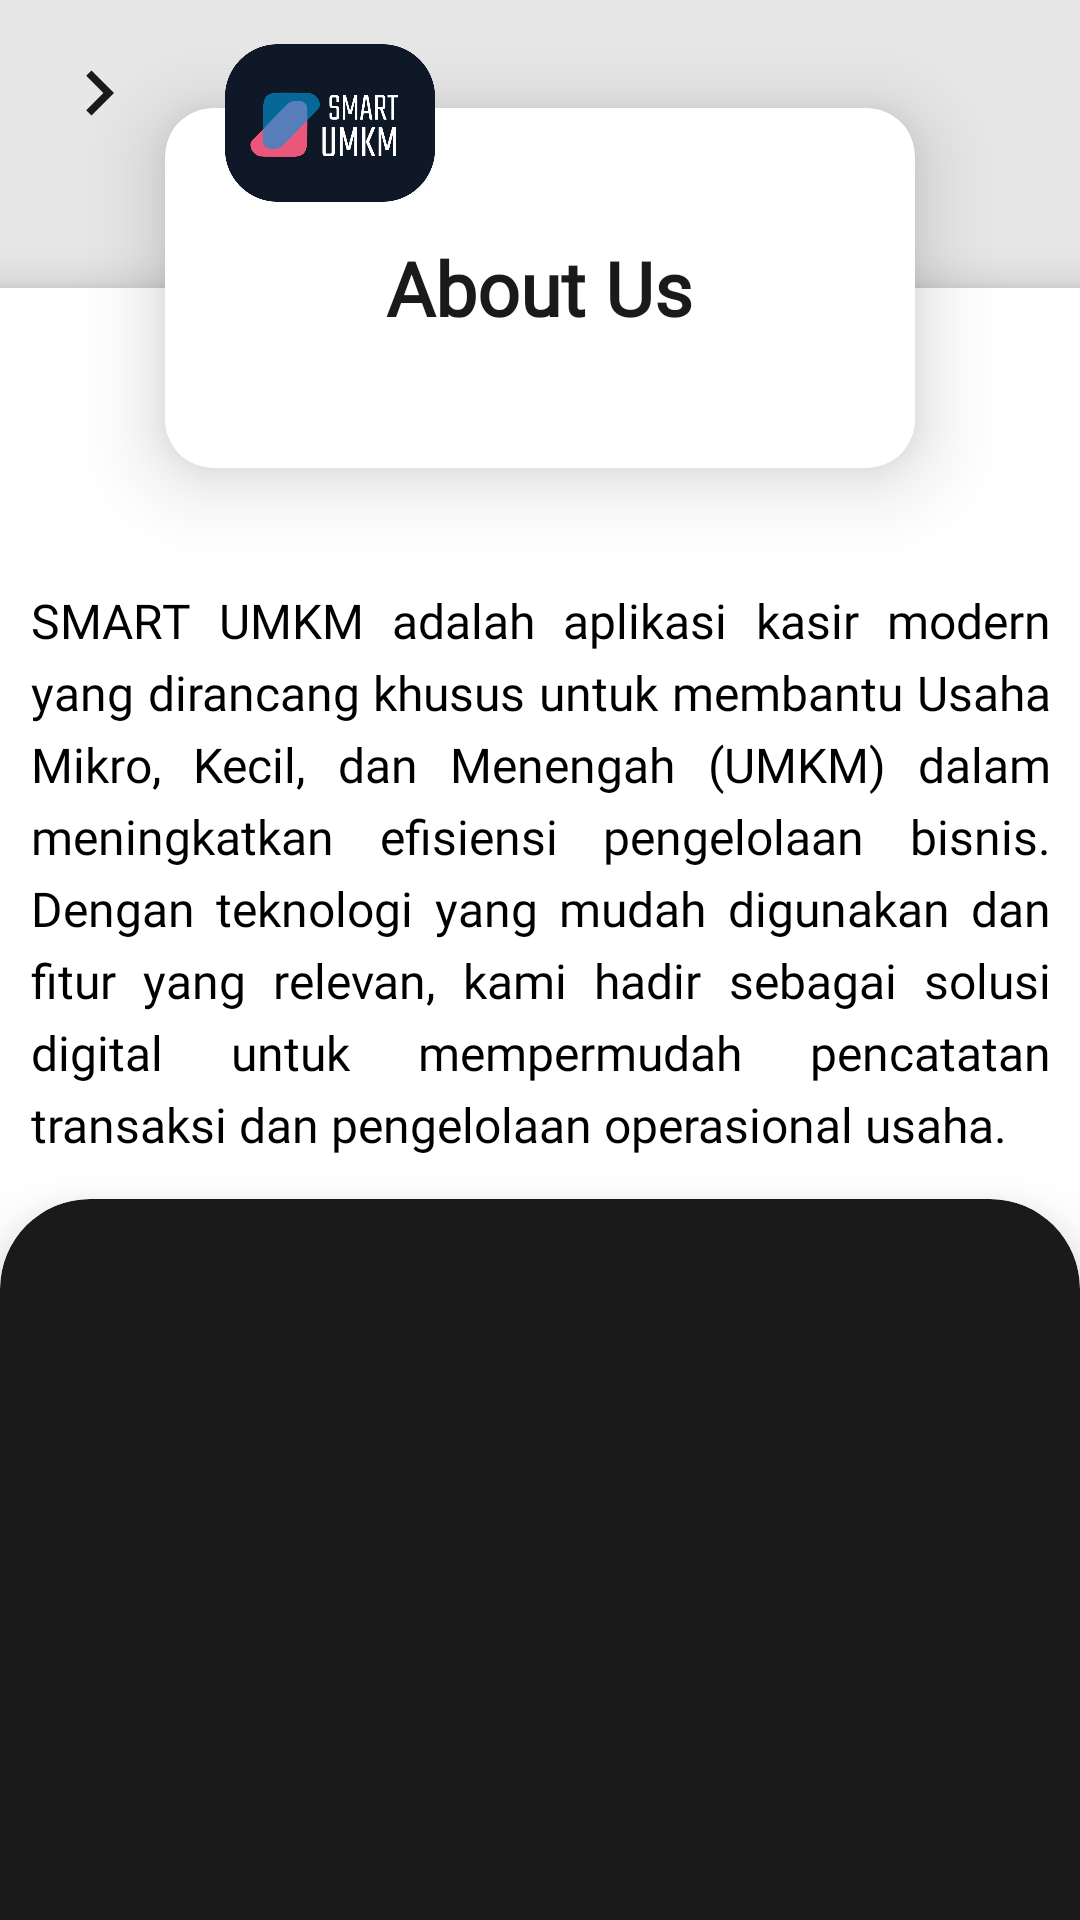

Where to tap for icons on this 1080x1920 app screen, as (x=x, y=y):
keyboard arrow right: (x=100, y=93)
